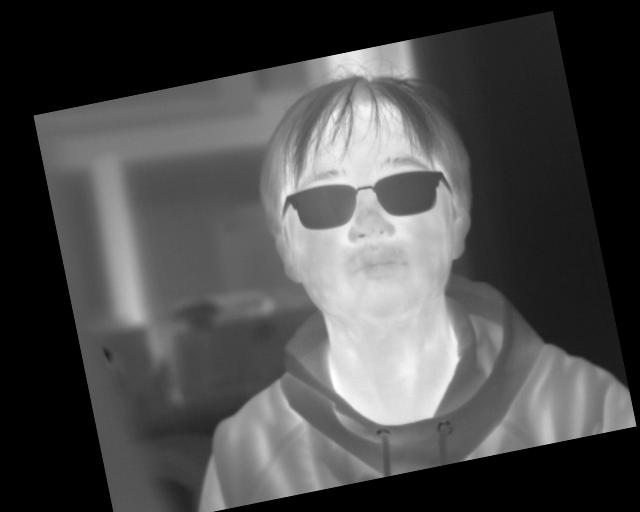face: (238, 51, 501, 344)
